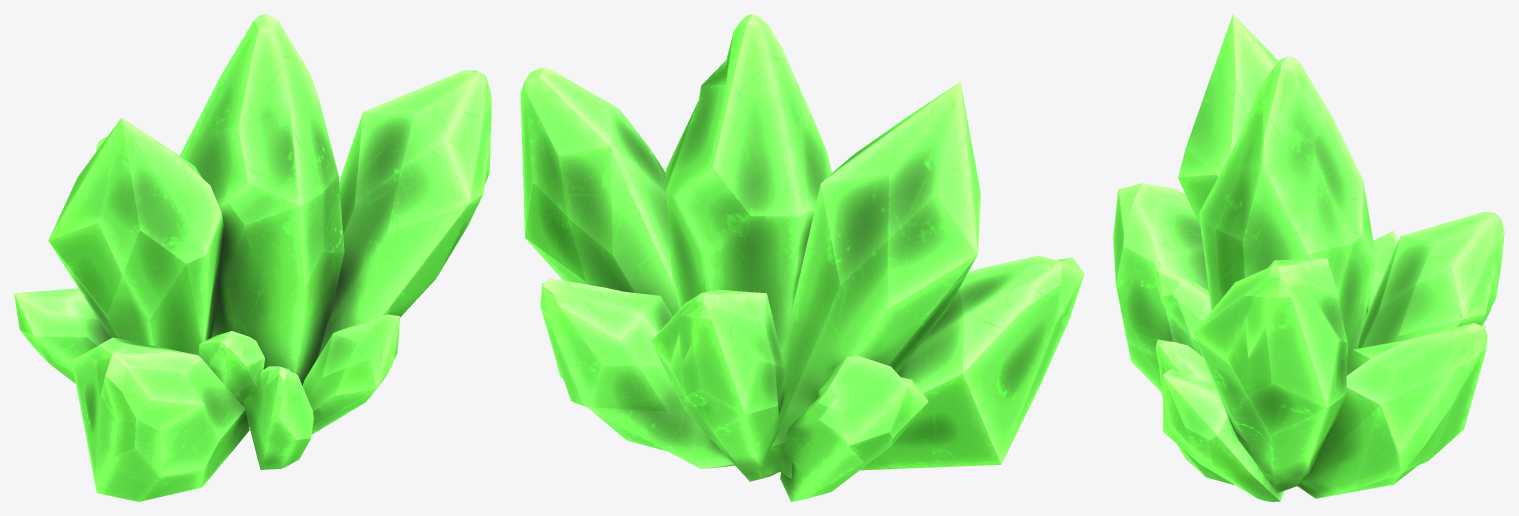
File: deraumere.glb
3 views of the same model, side by side, from view 1: azimuth 30°, elevation 25°; view 2: azimuth 150°, elevation 25°; view 3: azimuth 270°, elevation 25° (orthographic). The views are drawn at different scales.
Visible parts, largest first — view 1: Cylinder.001; view 2: Cylinder.001; view 3: Cylinder.001.
Part boxes in pixels (left/top/right/bottom): Cylinder.001: left=14, top=14, right=491, bottom=501; Cylinder.001: left=520, top=14, right=1084, bottom=501; Cylinder.001: left=1113, top=14, right=1504, bottom=501.
Size of the model in its own units: 2.77 by 2.46 by 2.
1 material, 1 textured.
